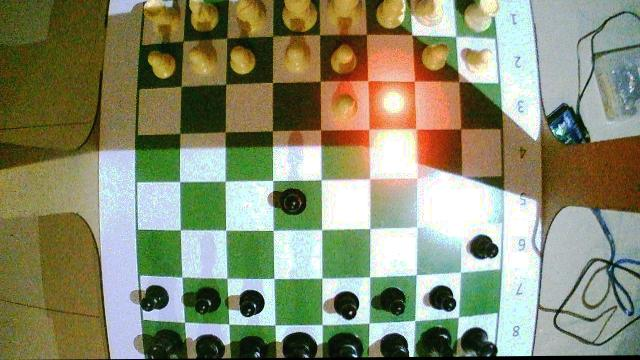piece: (230, 0, 268, 36), (144, 0, 179, 39), (282, 0, 318, 31), (457, 328, 496, 356), (463, 0, 498, 30), (417, 327, 452, 356), (228, 290, 264, 317), (145, 330, 179, 358), (281, 332, 319, 357), (188, 0, 218, 31), (327, 0, 359, 29), (371, 288, 405, 315), (270, 189, 305, 214), (192, 334, 228, 358), (376, 0, 406, 28), (328, 291, 358, 319), (331, 42, 358, 73), (326, 332, 359, 357), (285, 37, 309, 71), (190, 42, 216, 73), (147, 51, 175, 78), (410, 0, 439, 26), (230, 43, 255, 73), (138, 286, 168, 310), (468, 235, 498, 258), (424, 288, 455, 310), (194, 286, 219, 313), (379, 333, 408, 356), (421, 45, 448, 69), (239, 336, 269, 357), (331, 93, 357, 116), (463, 51, 489, 66)
